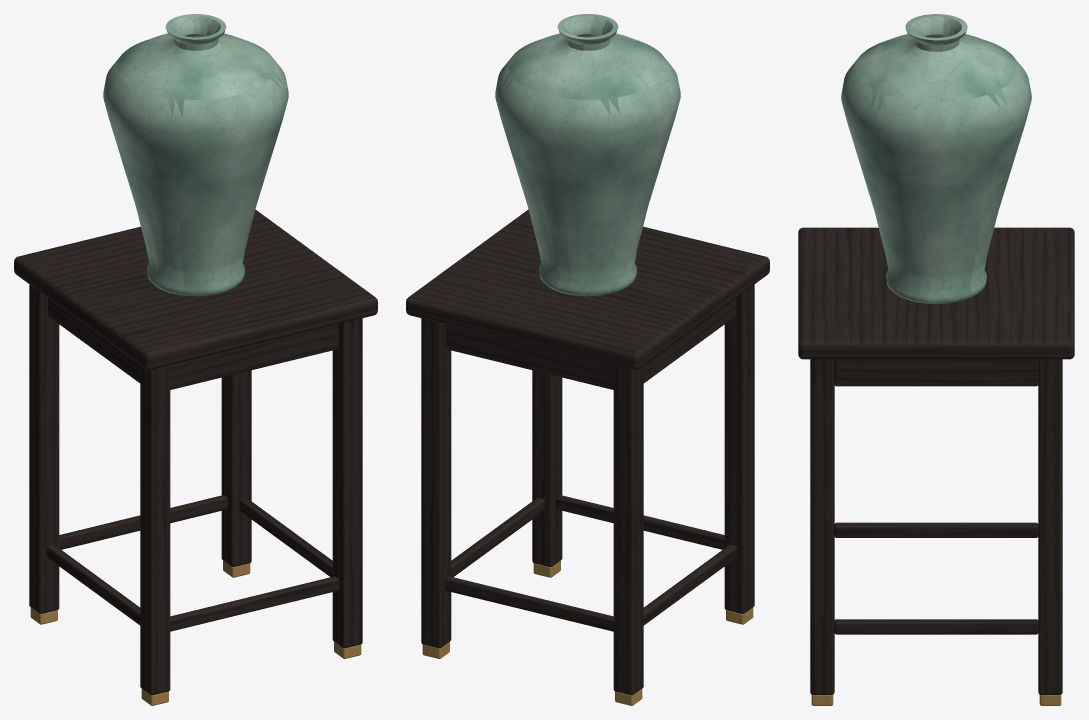
Rendered from celadon_vase_stand.glb.
The picture shows the model from 3 angles, left to right: view 1: azimuth 30°, elevation 25°; view 2: azimuth 150°, elevation 25°; view 3: azimuth 270°, elevation 25°; orthographic projection. The views are drawn at different scales.
Parts seen in each view (by area): view 1: vase_celadon_0, stand_top_wood_ebony_0, leg_fl_wood_ebony_0, leg_fr_wood_ebony_0, leg_bl_wood_ebony_0, leg_br_wood_ebony_0, apron_wood_ebony_0, stretchers_wood_ebony_0, stretchers_wood_ebony_1, apron_wood_ebony_3, stretchers_wood_ebony_3, stretchers_wood_ebony_2; view 2: vase_celadon_0, stand_top_wood_ebony_0, leg_bl_wood_ebony_0, leg_br_wood_ebony_0, leg_fl_wood_ebony_0, leg_fr_wood_ebony_0, apron_wood_ebony_1, stretchers_wood_ebony_1, stretchers_wood_ebony_0, apron_wood_ebony_3, stretchers_wood_ebony_3, stretchers_wood_ebony_2; view 3: vase_celadon_0, stand_top_wood_ebony_0, leg_fr_wood_ebony_0, leg_br_wood_ebony_0, apron_wood_ebony_2, stretchers_wood_ebony_2, stretchers_wood_ebony_3.
Part boxes in pixels (x1,y1,x2,y2): vase_celadon_0: (103,14,288,296); stand_top_wood_ebony_0: (14,209,377,370); leg_fl_wood_ebony_0: (140,365,170,695); leg_fr_wood_ebony_0: (332,318,362,648); leg_bl_wood_ebony_0: (29,284,59,613); leg_br_wood_ebony_0: (221,370,251,566); apron_wood_ebony_0: (170,324,338,389); stretchers_wood_ebony_0: (170,576,338,631); stretchers_wood_ebony_1: (59,495,227,549); apron_wood_ebony_3: (48,298,140,383); stretchers_wood_ebony_3: (47,544,140,625); stretchers_wood_ebony_2: (239,497,332,577); vase_celadon_0: (495,14,680,296); stand_top_wood_ebony_0: (406,209,769,370); leg_bl_wood_ebony_0: (613,365,643,695); leg_br_wood_ebony_0: (421,318,451,648); leg_fl_wood_ebony_0: (724,284,754,613); leg_fr_wood_ebony_0: (532,370,562,566); apron_wood_ebony_1: (445,324,613,389); stretchers_wood_ebony_1: (445,576,613,631); stretchers_wood_ebony_0: (556,495,724,549); apron_wood_ebony_3: (643,298,735,383); stretchers_wood_ebony_3: (643,544,736,625); stretchers_wood_ebony_2: (451,497,544,577); vase_celadon_0: (841,14,1031,303); stand_top_wood_ebony_0: (798,227,1074,359); leg_fr_wood_ebony_0: (810,359,834,694); leg_br_wood_ebony_0: (1038,359,1062,694); apron_wood_ebony_2: (834,359,1038,386); stretchers_wood_ebony_2: (834,619,1038,634); stretchers_wood_ebony_3: (834,522,1038,537).
Size of what is drawn, in the model's own units: 0.4 by 1 by 0.4.
Materials: 5 (5 with a texture image).
